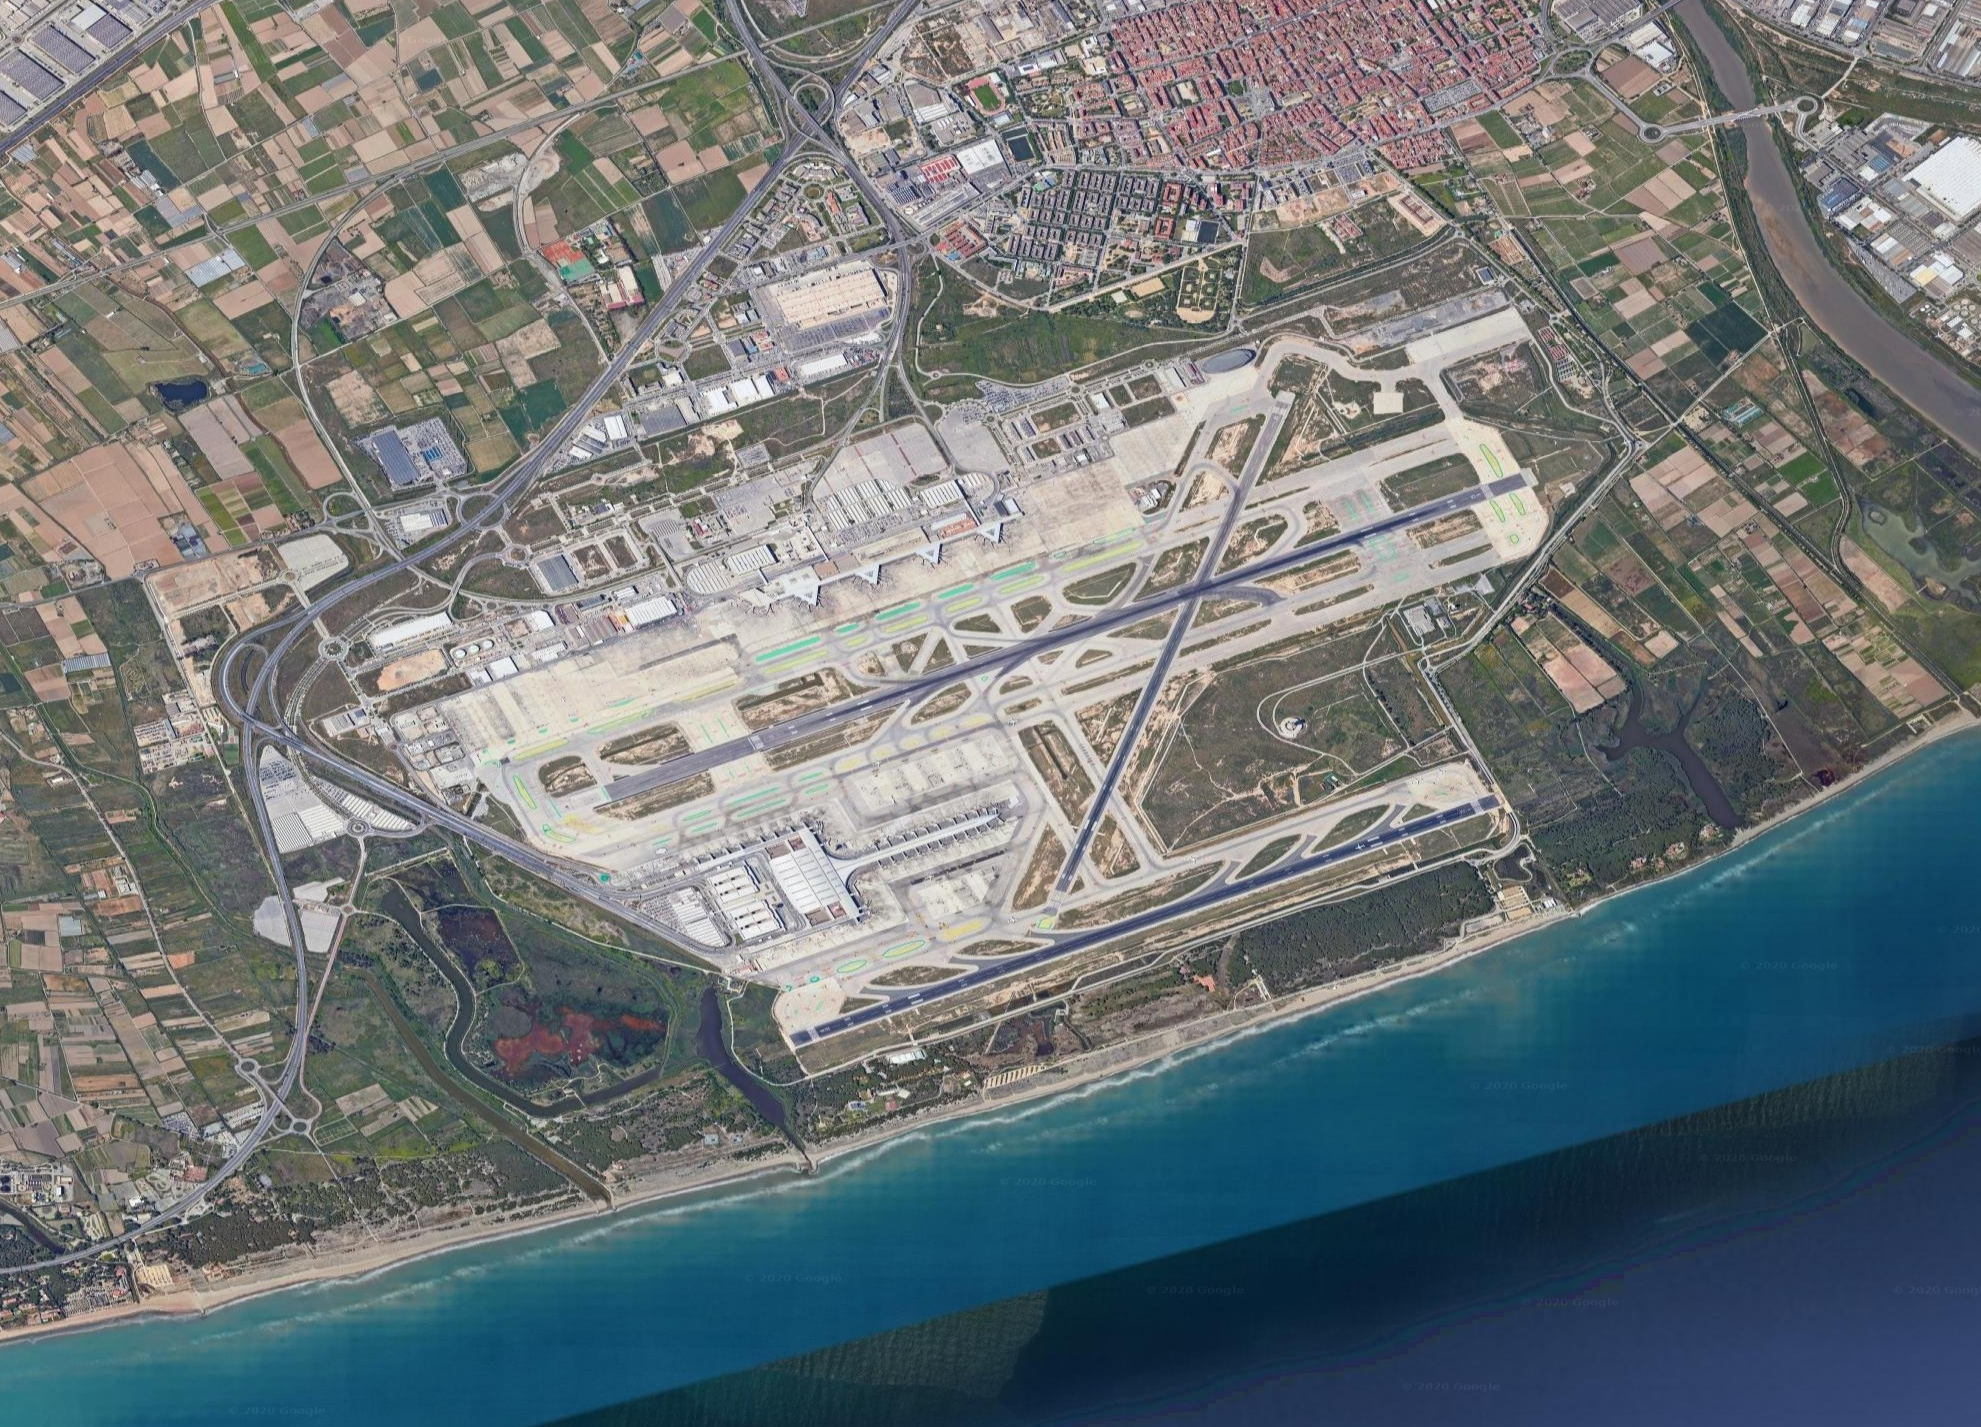airport: (385, 388, 1546, 1050)
motorway: (747, 46, 849, 188), (715, 2, 914, 71), (280, 710, 412, 800), (451, 444, 548, 531), (271, 569, 354, 658), (401, 797, 521, 858), (535, 358, 618, 443), (611, 268, 688, 358), (352, 524, 454, 592), (254, 1003, 315, 1113), (681, 191, 757, 280), (195, 1112, 275, 1193), (220, 658, 275, 773), (112, 1186, 206, 1246), (278, 893, 325, 1006), (241, 783, 288, 895), (2, 1233, 112, 1275)
